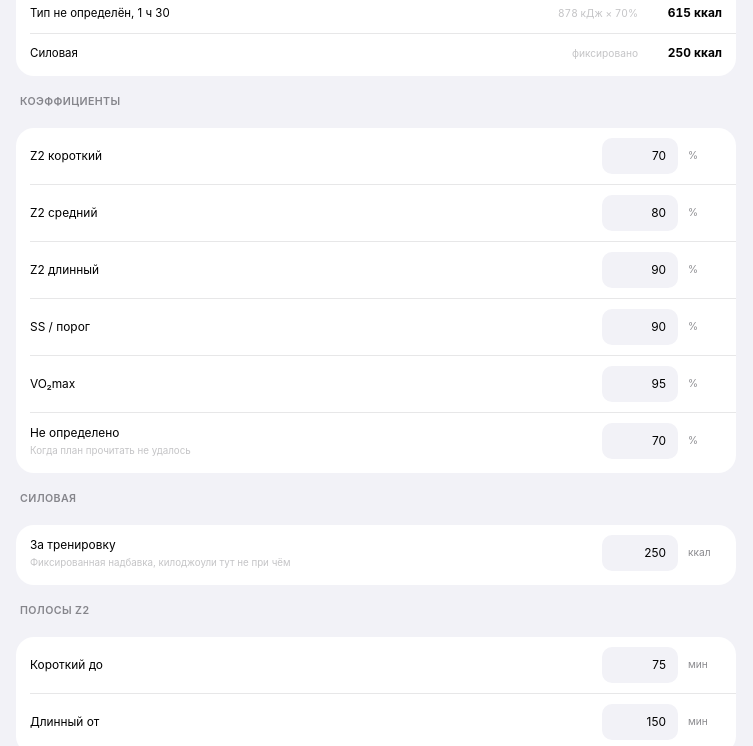
the preview › follows the field before anything is saved
(page scrolled)
Replace the text in the field named "VO₂max" with "50" at point(640, 384), box left=602, top=366, right=678, bottom=402
(page scrolled)
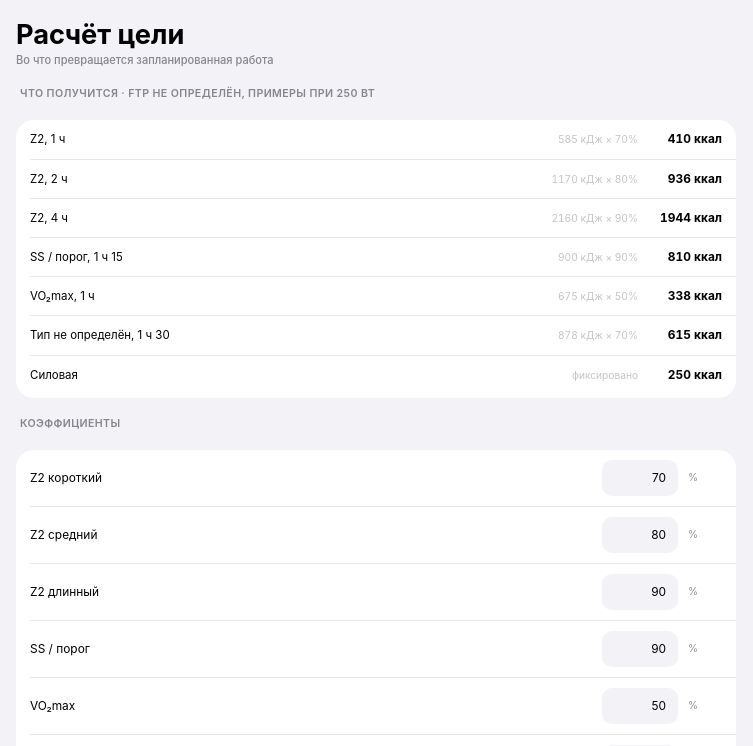
Expected: the text "338 ккал" is shown, left=668, top=288, right=722, bottom=303
